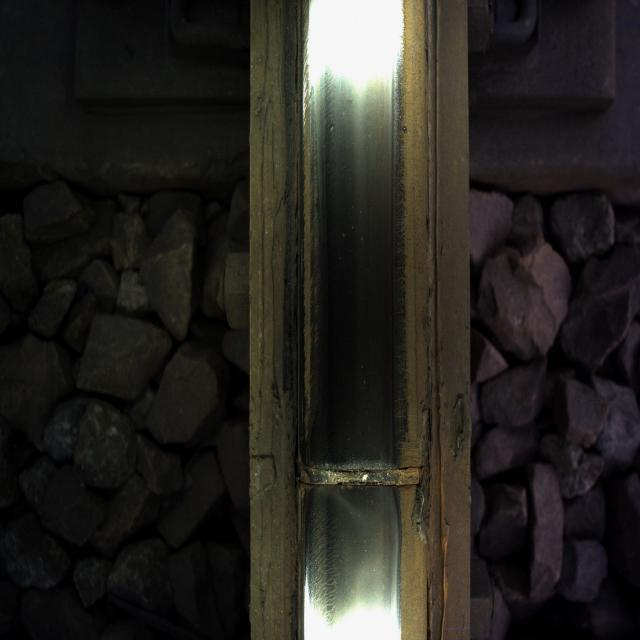spalling: (274, 424, 442, 528)
